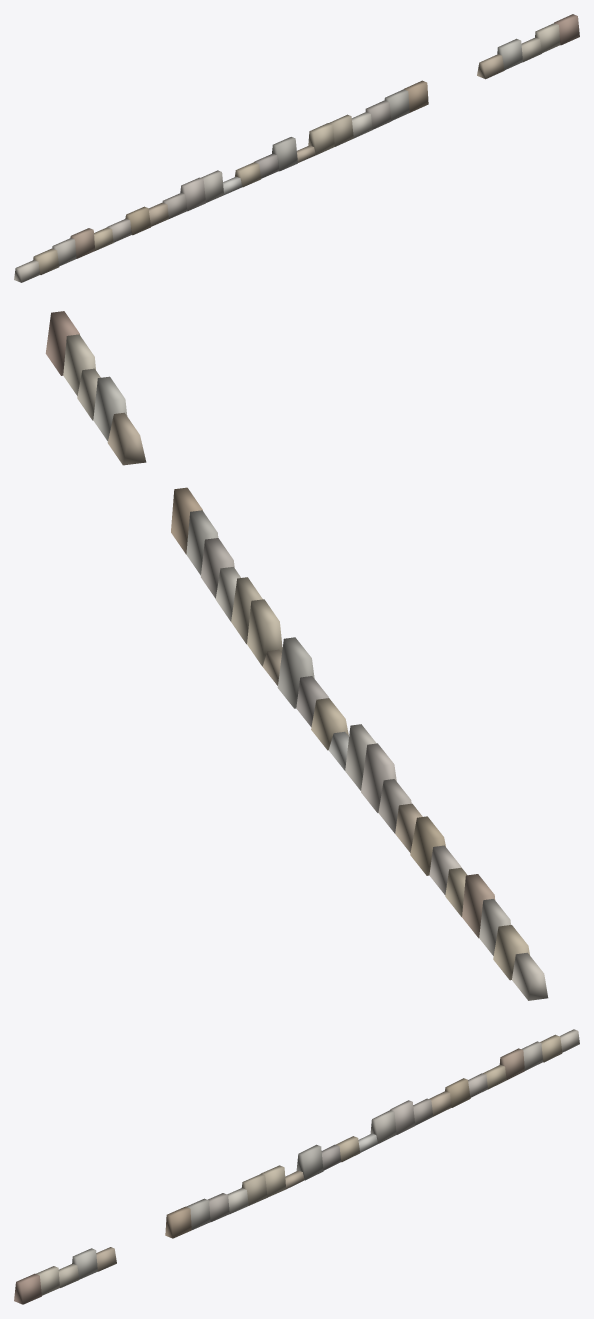
The model's file is farm_-58_-47_collision.glb.
3 renders of one model, top to bottom at view 1: azimuth 90°, elevation 25°; view 2: azimuth 150°, elevation 25°; view 3: azimuth 270°, elevation 25°, orthographic. The views are drawn at different scales.
Visible parts, largest first — view 1: geometry_0; view 2: geometry_0; view 3: geometry_0.
Part boxes in pixels (x1,y1,x2,y2): geometry_0: [14, 14, 579, 282]; geometry_0: [45, 311, 548, 1000]; geometry_0: [14, 1029, 579, 1304].
Bounding box in the file's own units: 35.53 × 1.79 × 33.12.
